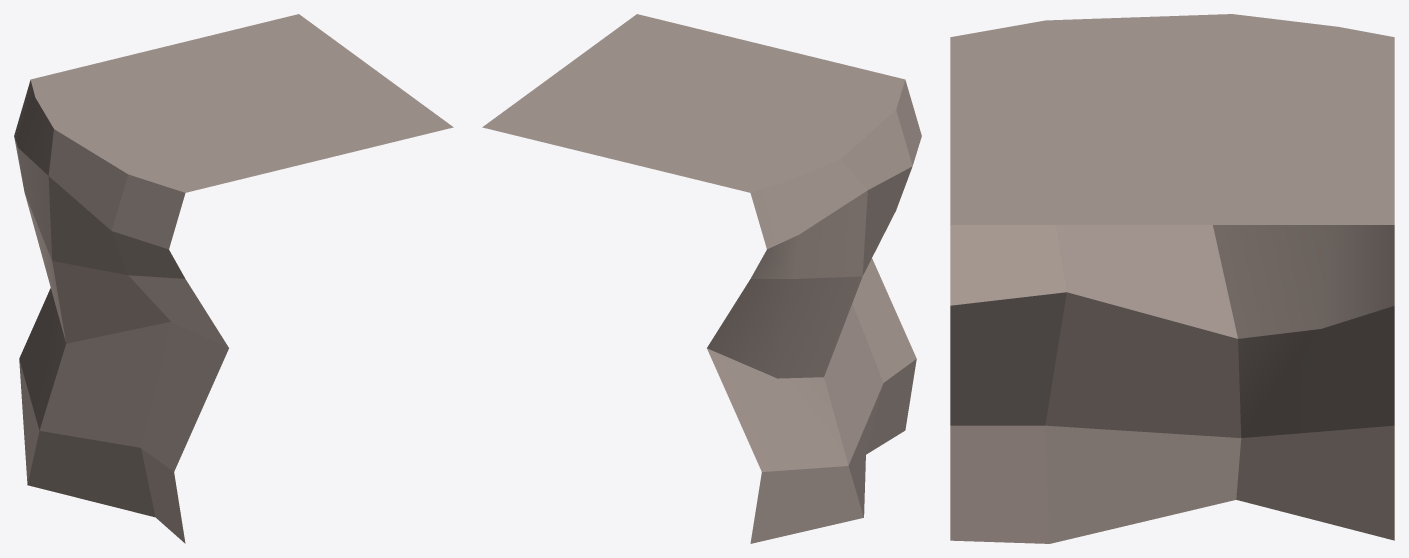
File: ArenaWall_Straight_1m_A.fbx
The picture shows the model from 3 angles, left to right: view 1: azimuth 30°, elevation 25°; view 2: azimuth 150°, elevation 25°; view 3: azimuth 270°, elevation 25°; orthographic projection. The views are drawn at different scales.
Parts seen in each view (by area): view 1: ArenaWall_Straight_1m_A; view 2: ArenaWall_Straight_1m_A; view 3: ArenaWall_Straight_1m_A.
Boxes of the visible parts, box(x1,y1,x2,y2) form: ArenaWall_Straight_1m_A: box(14, 14, 453, 543); ArenaWall_Straight_1m_A: box(482, 14, 921, 543); ArenaWall_Straight_1m_A: box(950, 14, 1394, 543).
Size of the model in its own units: 2.44 by 2.5 by 2.
